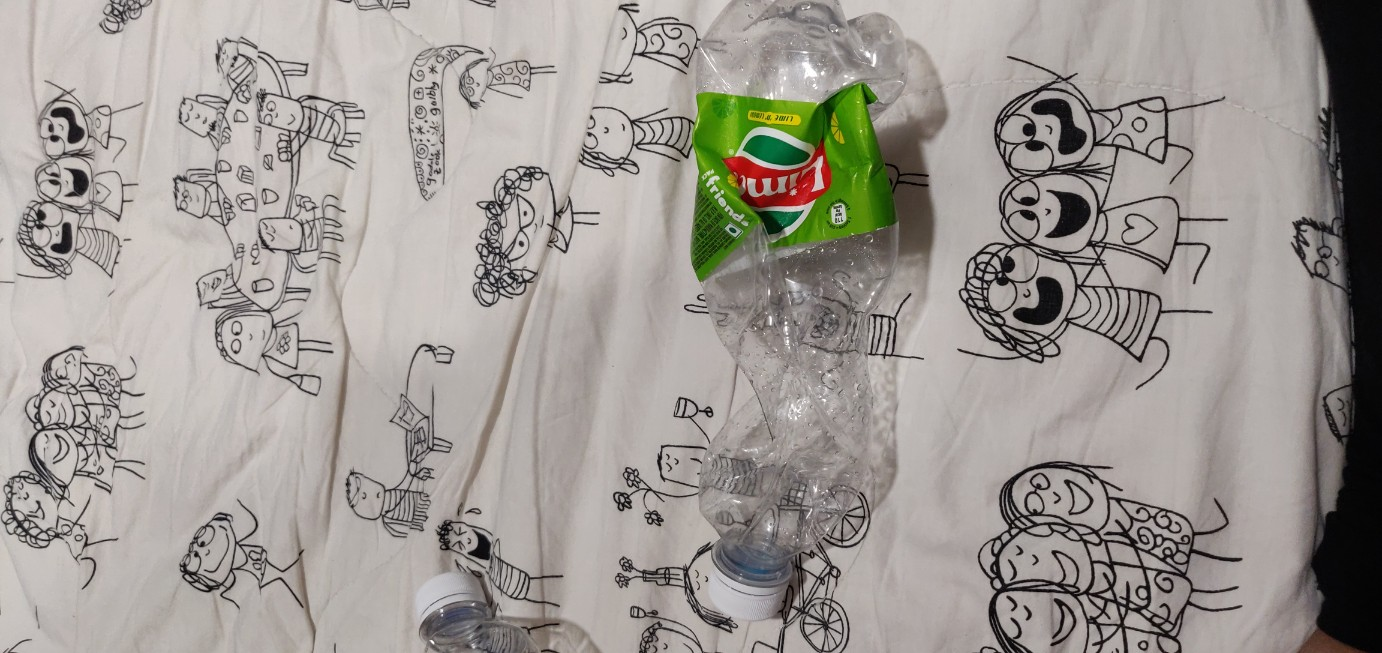Electronics: (656, 2, 956, 635)
